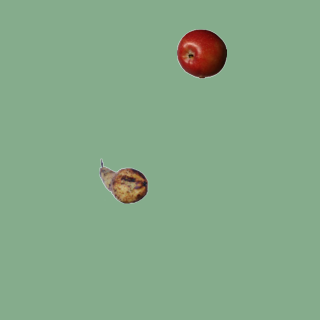Apple Braeburn: (176, 28, 226, 78)
Pear Abate: (98, 156, 148, 206)
